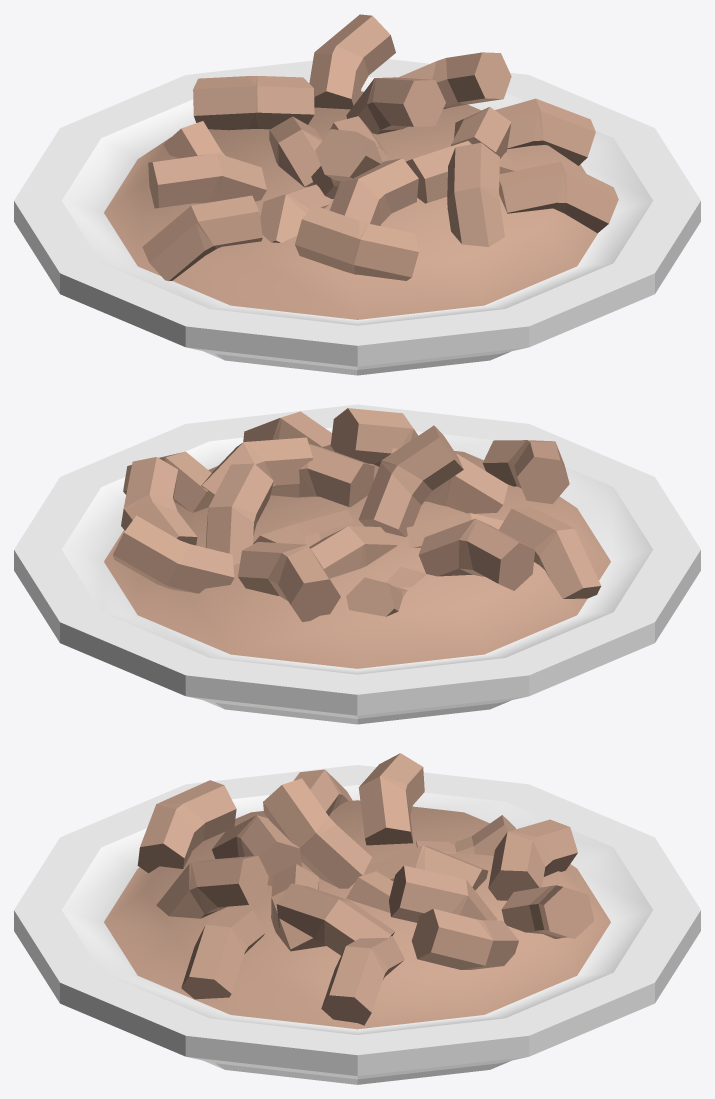
The model's file is pastaBoiled.dae.
3 views of the same model, one above another, from view 1: azimuth 30°, elevation 25°; view 2: azimuth 150°, elevation 25°; view 3: azimuth 270°, elevation 25° (orthographic).
Parts seen in each view (by area): view 1: plateSauerkraut; view 2: plateSauerkraut; view 3: plateSauerkraut.
Boxes of the visible parts, x1=… form: plateSauerkraut: x1=14, y1=14, x2=700, y2=375; plateSauerkraut: x1=14, y1=404, x2=700, y2=724; plateSauerkraut: x1=14, y1=753, x2=700, y2=1084.
Bounding box in the file's own units: 0.8918 × 0.8918 × 0.2422.
